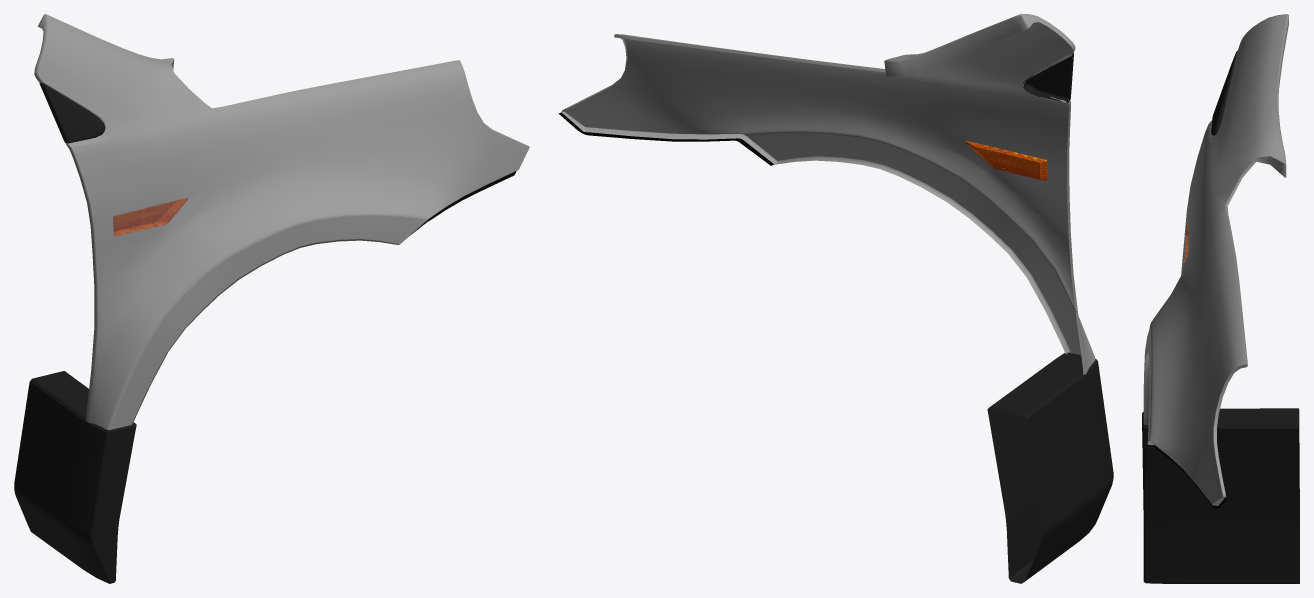
The picture shows the model from 3 angles, left to right: view 1: azimuth 30°, elevation 25°; view 2: azimuth 150°, elevation 25°; view 3: azimuth 270°, elevation 25°; orthographic projection. The views are drawn at different scales.
Visible parts, largest first — view 1: H712_141B_R_H712_141B_R_4_DaS, H712_141B_R_H712_141B_R_1_D, H712_141B_R_H712_141B_R_4_DaS_E, H712_141B_R_H712_141B_R_2_N, H712_141B_R_H712_141B_R_3_DTaSI; view 2: H712_141B_R_H712_141B_R_4_DaS, H712_141B_R_H712_141B_R_1_D, H712_141B_R_H712_141B_R_4_DaS_E, H712_141B_R_H712_141B_R_2_N, H712_141B_R_5_D_H712_141B_R; view 3: H712_141B_R_H712_141B_R_4_DaS, H712_141B_R_H712_141B_R_1_D, H712_141B_R_H712_141B_R_4_DaS_E, H712_141B_R_5_D_H712_141B_R.
Boxes of the visible parts, <box> form: H712_141B_R_H712_141B_R_4_DaS: <box>38,14,529,429</box>; H712_141B_R_H712_141B_R_1_D: <box>14,83,136,583</box>; H712_141B_R_H712_141B_R_4_DaS_E: <box>34,14,529,424</box>; H712_141B_R_H712_141B_R_2_N: <box>113,198,187,236</box>; H712_141B_R_H712_141B_R_3_DTaSI: <box>113,198,187,235</box>; H712_141B_R_H712_141B_R_4_DaS: <box>564,22,1095,372</box>; H712_141B_R_H712_141B_R_1_D: <box>987,52,1113,583</box>; H712_141B_R_H712_141B_R_4_DaS_E: <box>561,14,1086,374</box>; H712_141B_R_H712_141B_R_2_N: <box>965,141,1048,180</box>; H712_141B_R_5_D_H712_141B_R: <box>558,112,774,165</box>; H712_141B_R_H712_141B_R_4_DaS: <box>1143,14,1287,503</box>; H712_141B_R_H712_141B_R_1_D: <box>1142,51,1299,583</box>; H712_141B_R_H712_141B_R_4_DaS_E: <box>1143,14,1288,505</box>; H712_141B_R_5_D_H712_141B_R: <box>1154,445,1226,509</box>.
Size of the model in its own units: 121 by 125 by 31.43.
